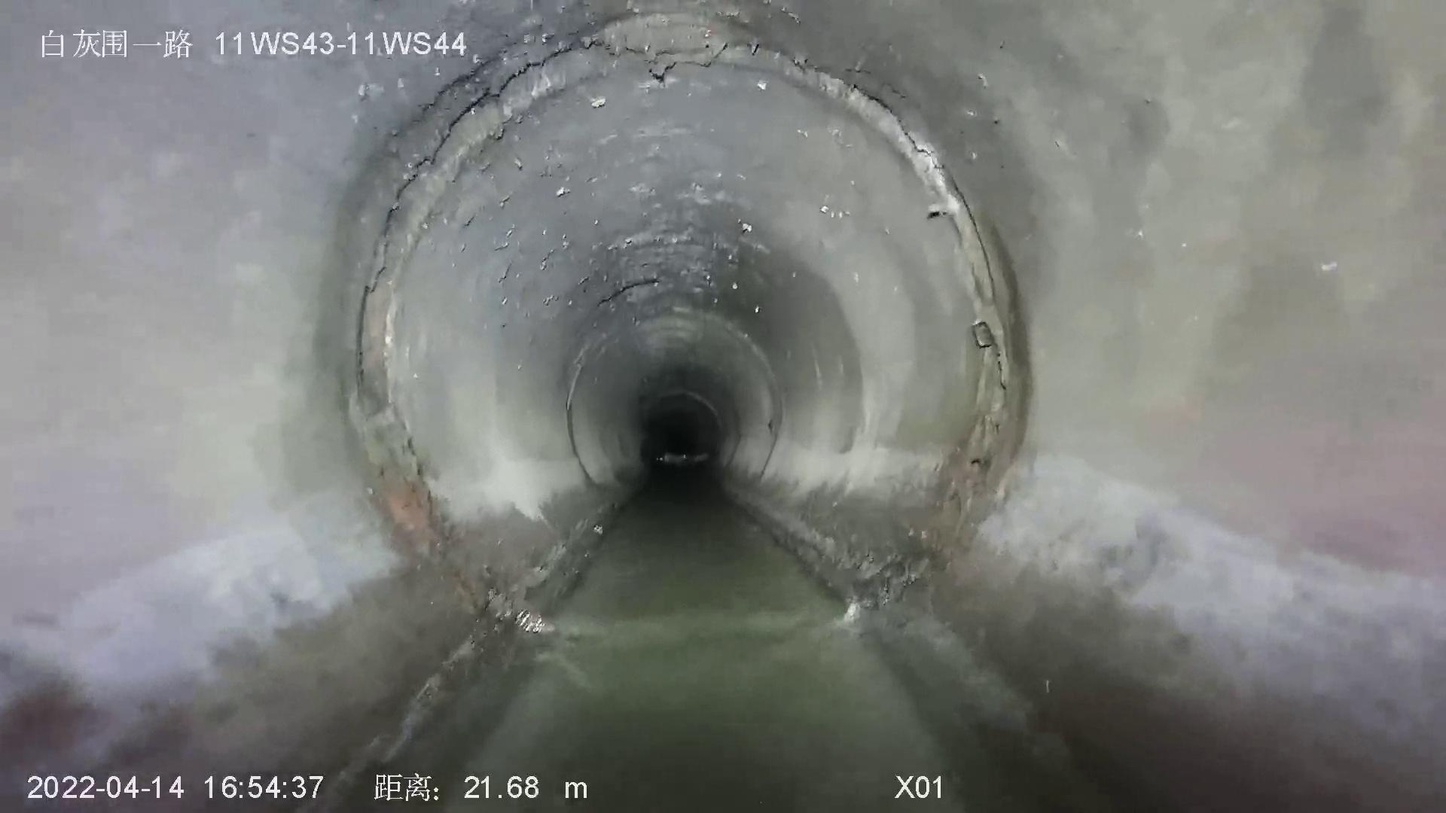CKTJ: (352, 10, 1030, 540)
